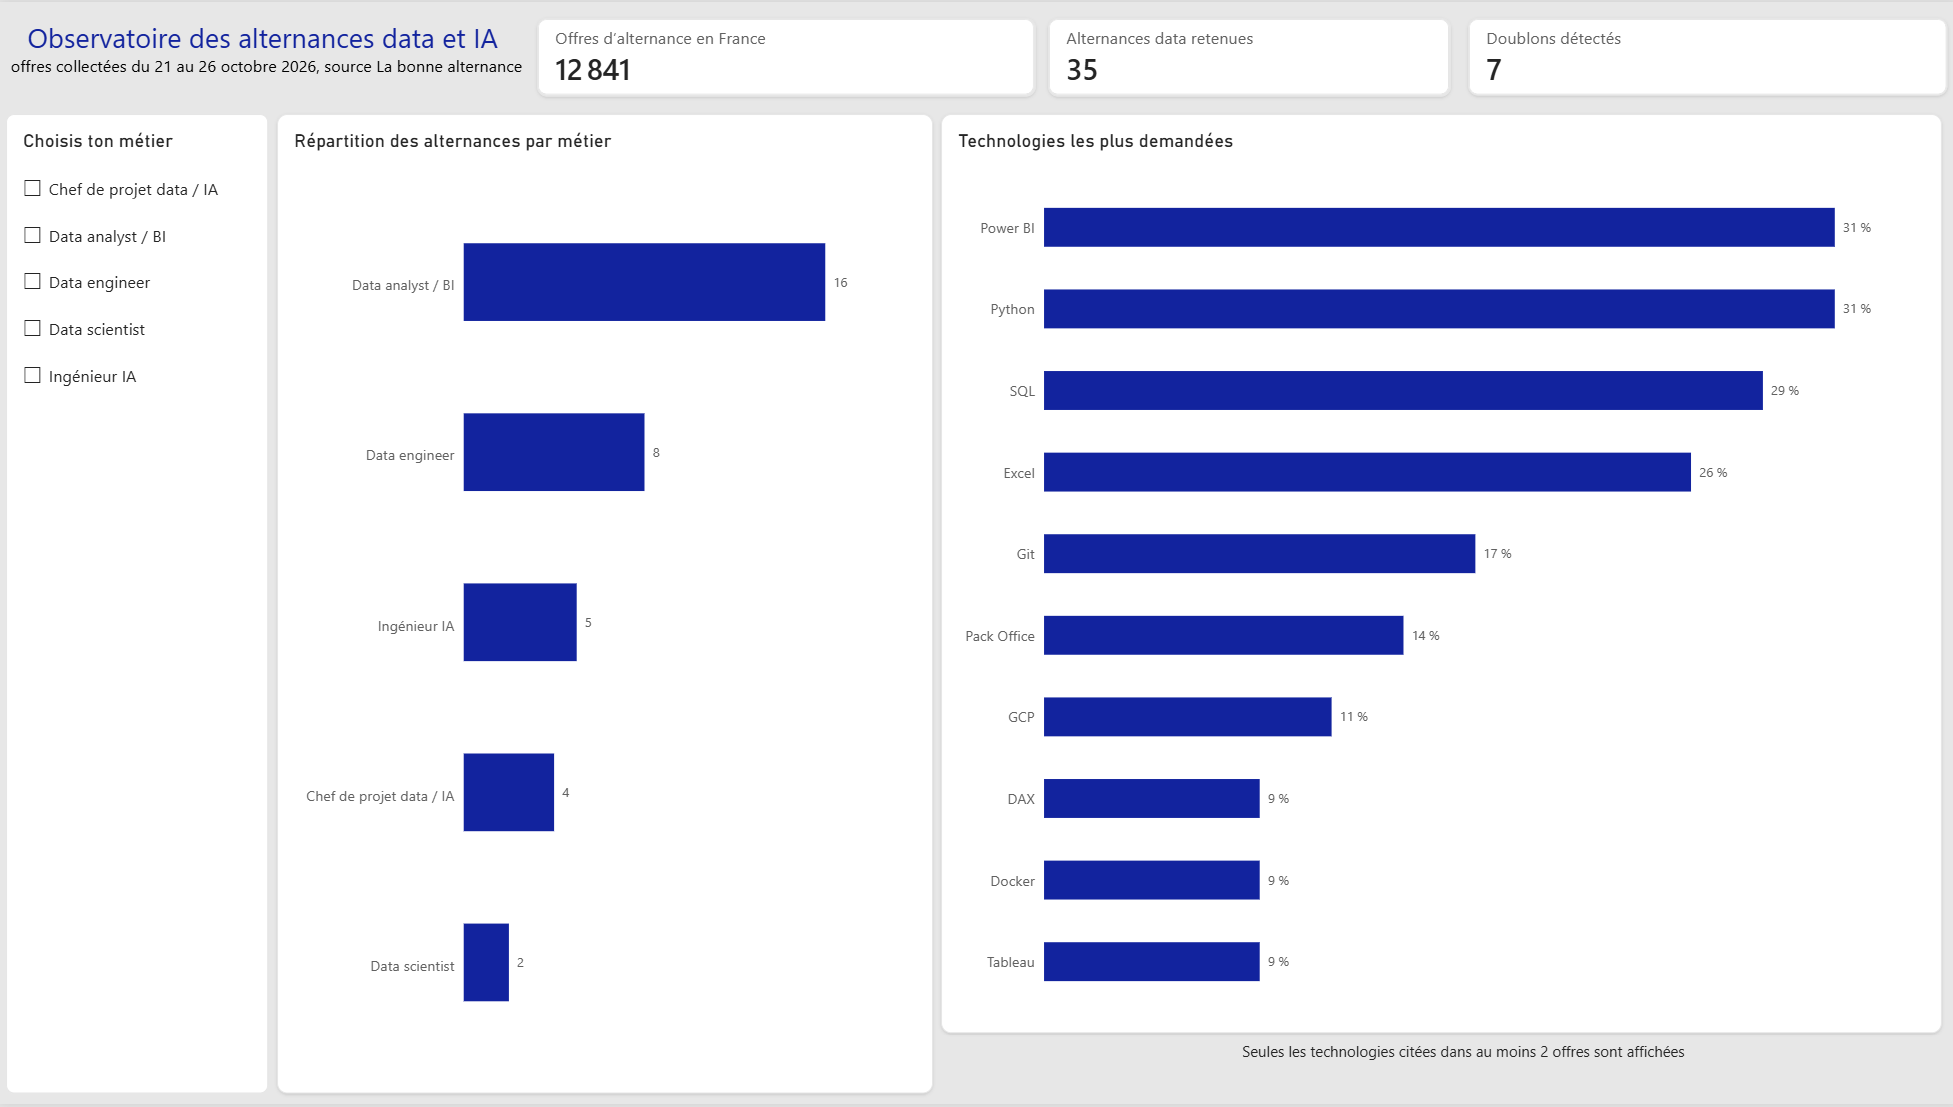

The page's visual inventory and layout, read from the dashboard file:
{"tool":"powerbi","page":{"name":"Page 1","canvas":[1920,1080],"ordinal":0},"visuals":[{"type":"clusteredBarChart","title":"Répartition des alternances par métier","fields":{"Category":["offres.metier"],"Y":["offres.Alternances data retenues"]},"box":[272.5,109.8,642.9,960.5],"z":0},{"type":"clusteredBarChart","title":"Technologies les plus demandées","fields":{"Category":["offres_technologies.technologie"],"Y":["offres.% des offres"]},"box":[923.2,109.8,981.1,900.7],"z":1000},{"type":"textbox","box":[6.9,15.7,510.6,76.4],"z":2000},{"type":"cardVisual","fields":{"Data":["offres.Nb offres"]},"box":[1028.1,15.7,394.6,76.6],"z":2000,"group":"g1"},{"type":"cardVisual","fields":{"Data":["offres.Doublons détectés"]},"box":[1439.8,15.7,470.4,76.4],"z":3000,"group":"g1"},{"type":"listSlicer","title":"Choisis ton métier","fields":{"Values":["offres.metier"]},"box":[6.9,109.8,256.8,960.5],"z":3000},{"type":"cardVisual","fields":{"Data":["offres.Offres du marché"]},"box":[527.3,15.7,488.8,76.6],"z":4000,"group":"g1"},{"type":"textbox","box":[1206.5,1018.3,457.7,60.8],"z":4000},{"type":"group","id":"g1","title":"Groupe 1","box":[527.3,15.7,1382.9,76.4],"z":5000}]}

Visuals, with their boxes in screenshot pixels (x1, y1, x2, y2), scaled from the page's 1920x1080 canvas onto the 1953x1107 screenshot:
"Répartition des alternances par métier" clusteredBarChart: select_region(277, 113, 931, 1097)
"Technologies les plus demandées" clusteredBarChart: select_region(939, 113, 1937, 1036)
textbox: select_region(7, 16, 526, 94)
cardVisual - offres.Nb offres: select_region(1046, 16, 1447, 95)
cardVisual - offres.Doublons détectés: select_region(1465, 16, 1943, 94)
"Choisis ton métier" listSlicer: select_region(7, 113, 268, 1097)
cardVisual - offres.Offres du marché: select_region(536, 16, 1034, 95)
textbox: select_region(1227, 1044, 1693, 1106)
"Groupe 1" group: select_region(536, 16, 1943, 94)
